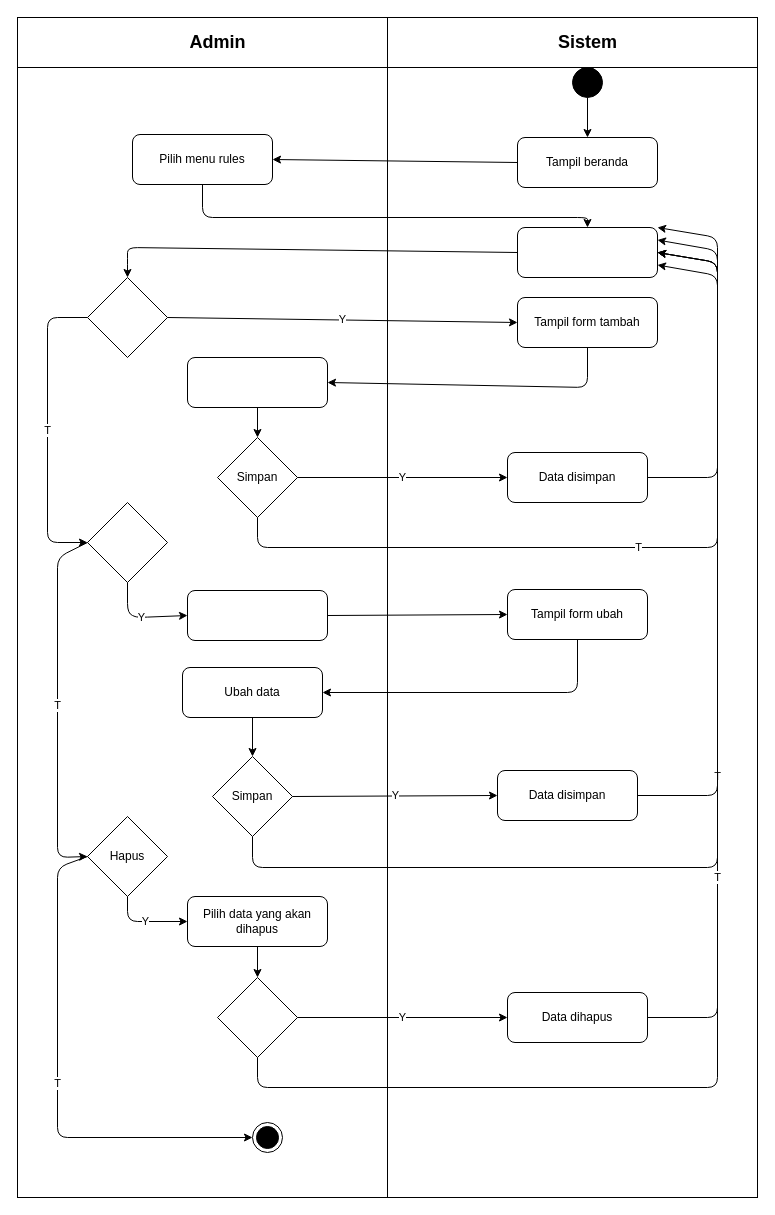
The diagram is 775 pixels wide and 1215 high, and some of its shapes have lost their labels. The centre of each missing label's shape, as x and y in pixels:
"Pilih data yang di ubah" goes at pixel 257 615.
"Tambah" goes at pixel 127 317.
"Tambah data" goes at pixel 257 382.
"Tampil data rules" goes at pixel 587 252.
"Ubah" goes at pixel 127 542.
"yakin hapus" goes at pixel 257 1017.
